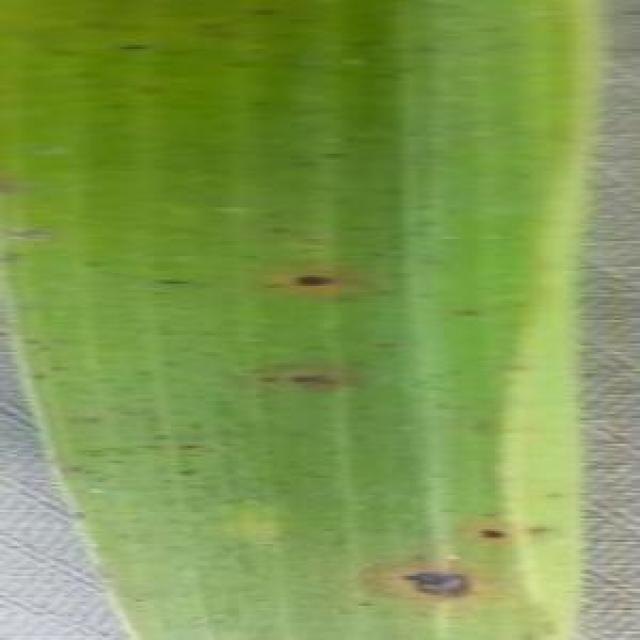brownspots: (268, 361, 376, 402), (397, 556, 482, 598), (286, 260, 346, 297), (472, 516, 536, 550)
